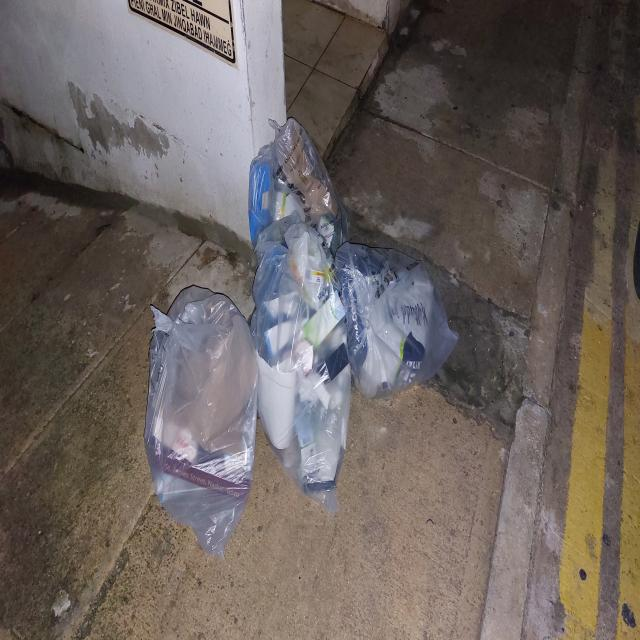Recycled Waste -Grey or Green Bag-: (145, 287, 259, 562), (251, 210, 352, 515), (335, 244, 460, 399), (250, 118, 351, 263)
